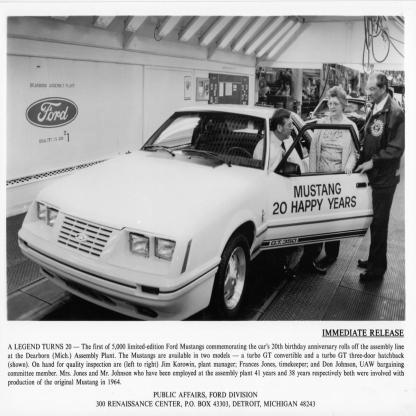car: (18, 89, 358, 324)
